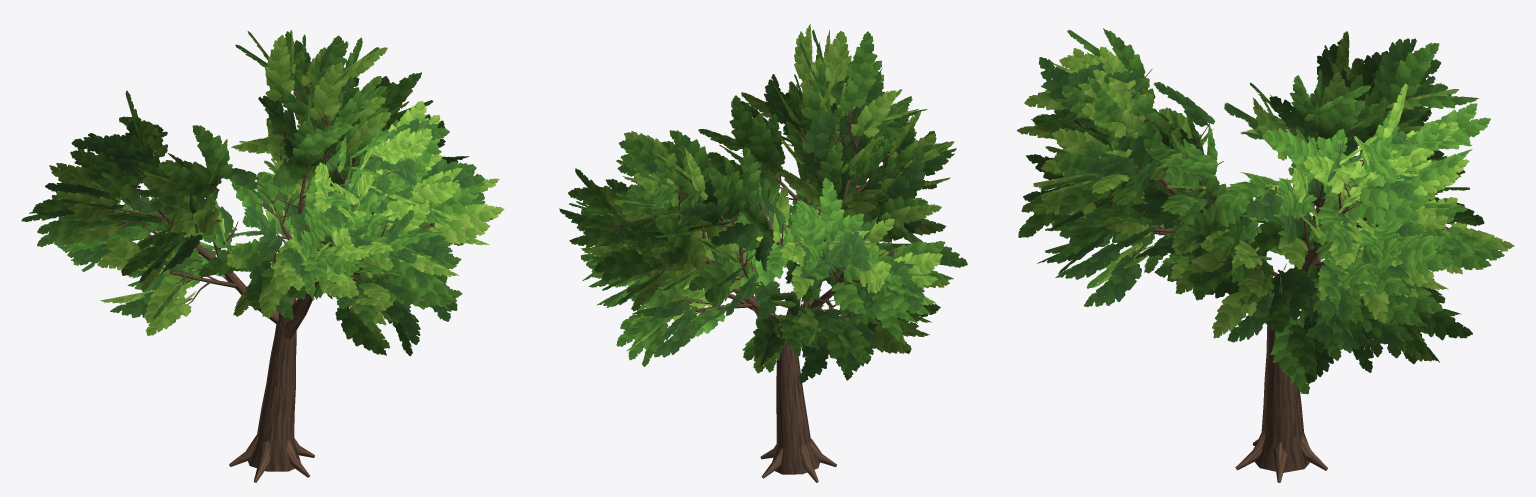
Rendered from SM_Tree_Oak_LOD1.fbx.
3 renders of one model, left to right at view 1: azimuth 30°, elevation 25°; view 2: azimuth 150°, elevation 25°; view 3: azimuth 270°, elevation 25°, orthographic. The views are drawn at different scales.
Visible parts, largest first — view 1: SM_Tree_Oak_LOD1; view 2: SM_Tree_Oak_LOD1; view 3: SM_Tree_Oak_LOD1.
Boxes of the visible parts, box(x1,y1,x2,y2) form: SM_Tree_Oak_LOD1: box(21, 30, 504, 482); SM_Tree_Oak_LOD1: box(559, 23, 967, 482); SM_Tree_Oak_LOD1: box(1017, 28, 1514, 482).
Size of the model in its own units: 7.05 by 6.62 by 6.63.
Materials: 2 (2 with a texture image).
